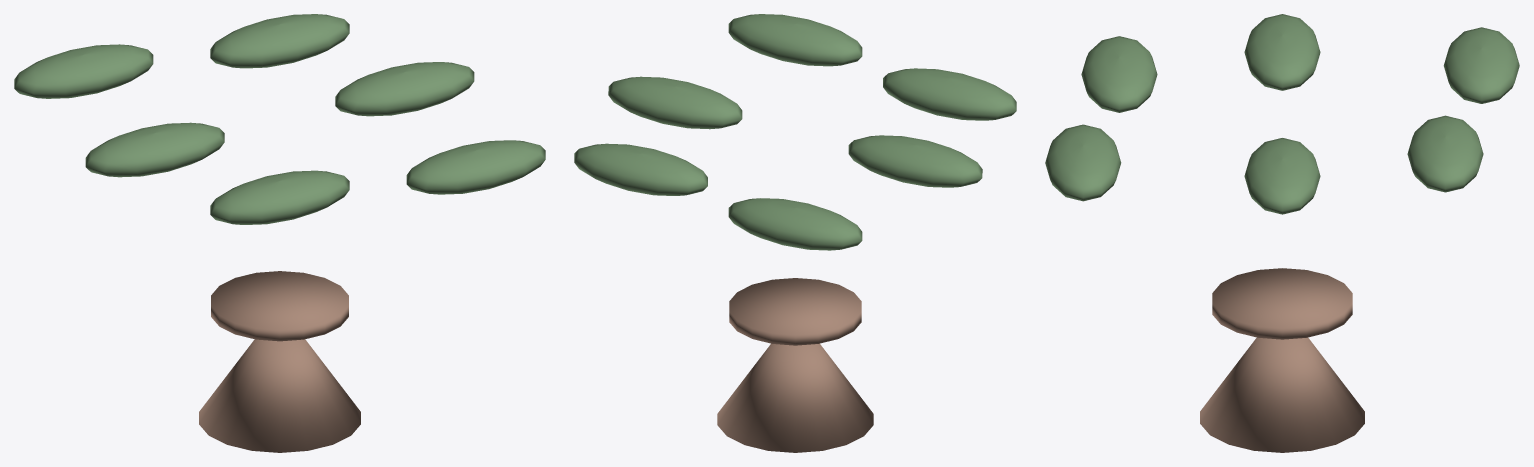
File: plant.glb
The picture shows the model from 3 angles, left to right: view 1: azimuth 30°, elevation 25°; view 2: azimuth 150°, elevation 25°; view 3: azimuth 270°, elevation 25°; orthographic projection. The views are drawn at different scales.
Parts seen in each view (by area): view 1: plant; view 2: plant; view 3: plant.
Part boxes in pixels (x1=…): plant: x1=14, y1=14, x2=545, y2=452; plant: x1=574, y1=14, x2=1016, y2=452; plant: x1=1045, y1=14, x2=1519, y2=452.
Bounding box in the file's own units: 1.09 × 0.8455 × 1.13.
